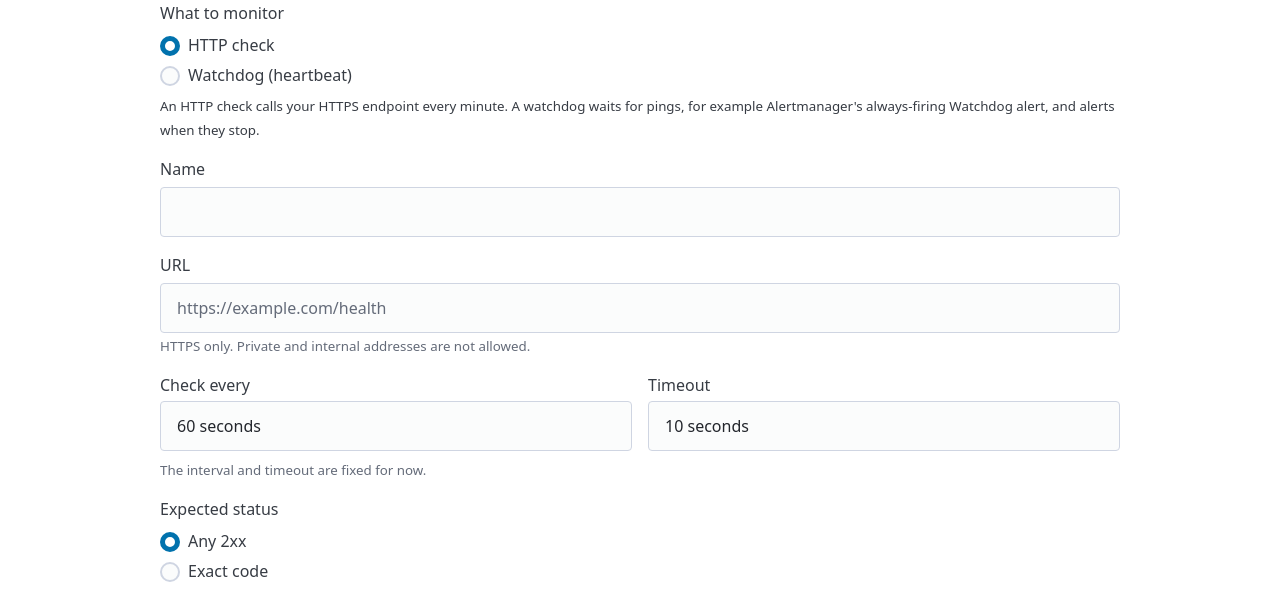
Test: monitor form › creates a monitor and opens it
The image size is (1280, 599).
Type "Website" into the field labelled "Name".
click(640, 212); type("Website")  # box [160,187,1120,237]
Type "https://example.com/" into the field labelled "URL".
click(640, 308); type("https://example.com/")  # box [160,283,1120,333]
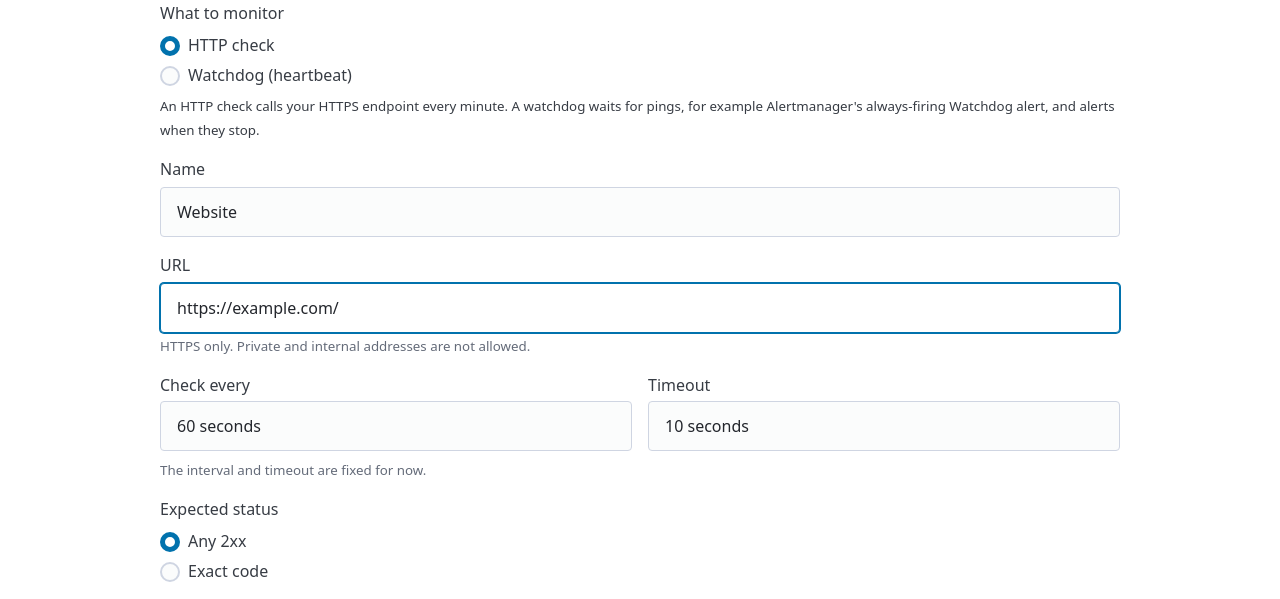
Click the radio button labelled "Exact code".
click(170, 572)  # box [160,562,180,582]
(page scrolled)
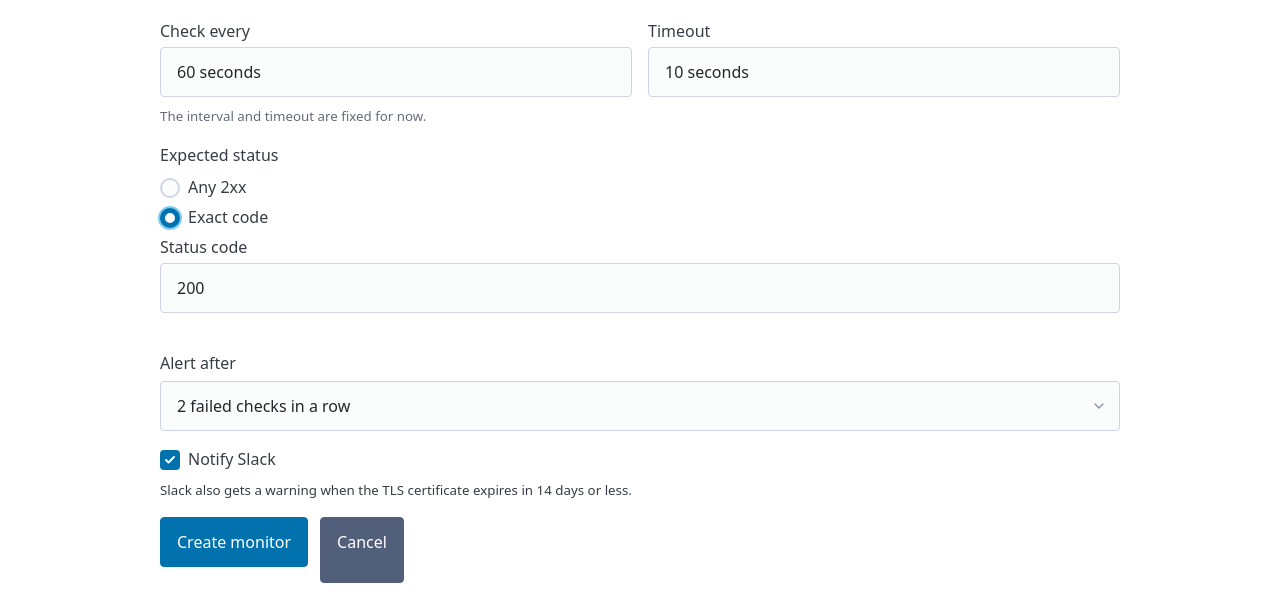
Replace the text in the field labelled "Status code" with "204" at (640,288), box [160,263,1120,313]
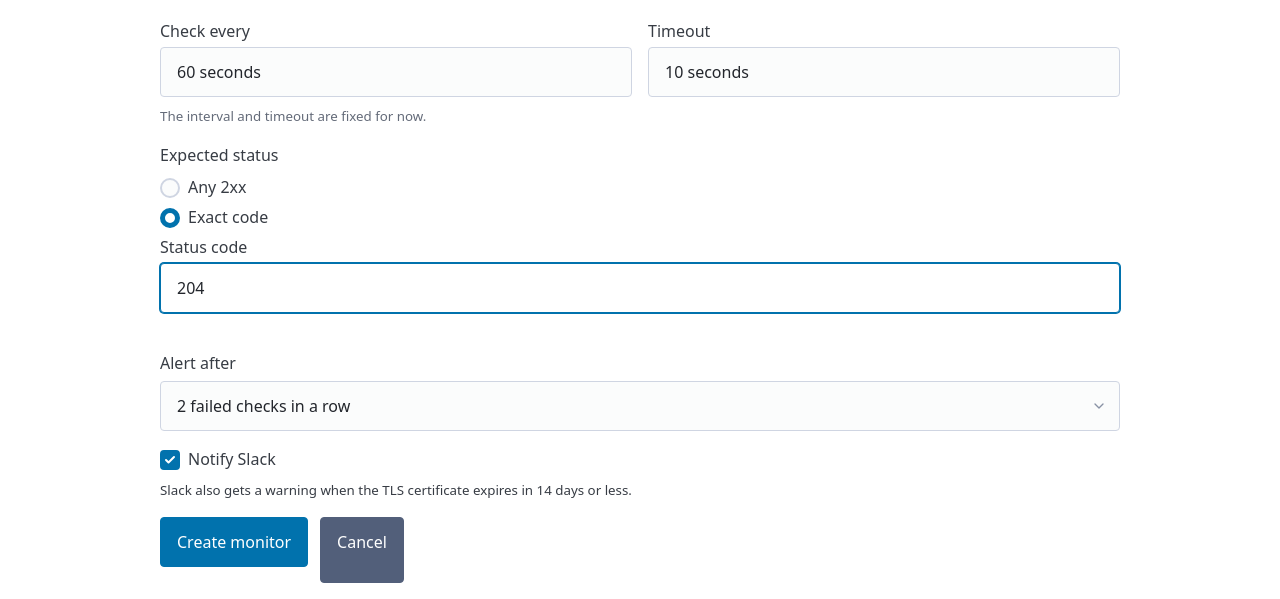
Select "3 failed checks in a row" in the dropdown labelled "Alert after" at (640,406), box [160,381,1120,431]
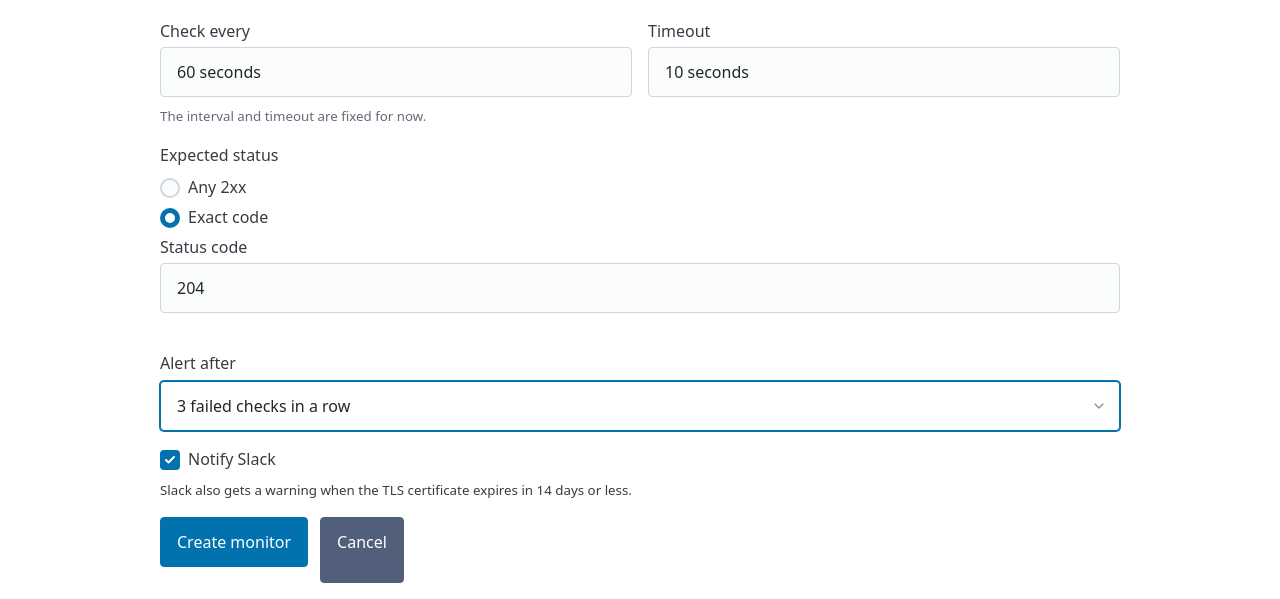
Click the checkbox labelled "Notify Slack".
click(170, 460)  # box [160,450,180,470]
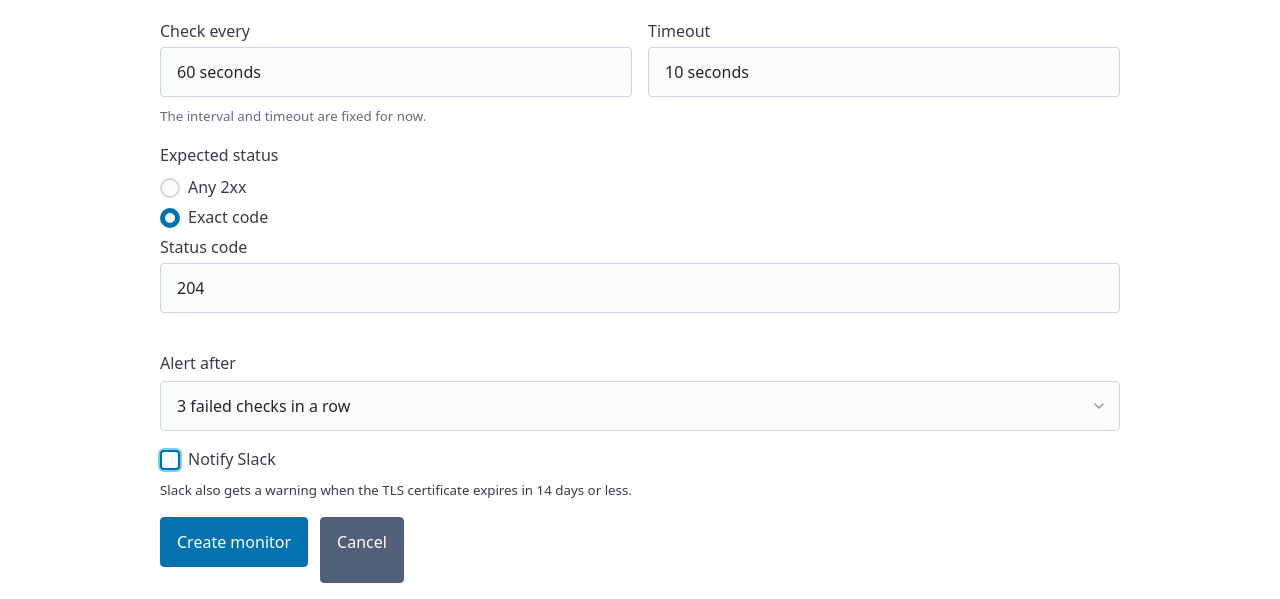
Click the button "Create monitor".
click(234, 542)  # box [160,517,308,567]
(page scrolled)
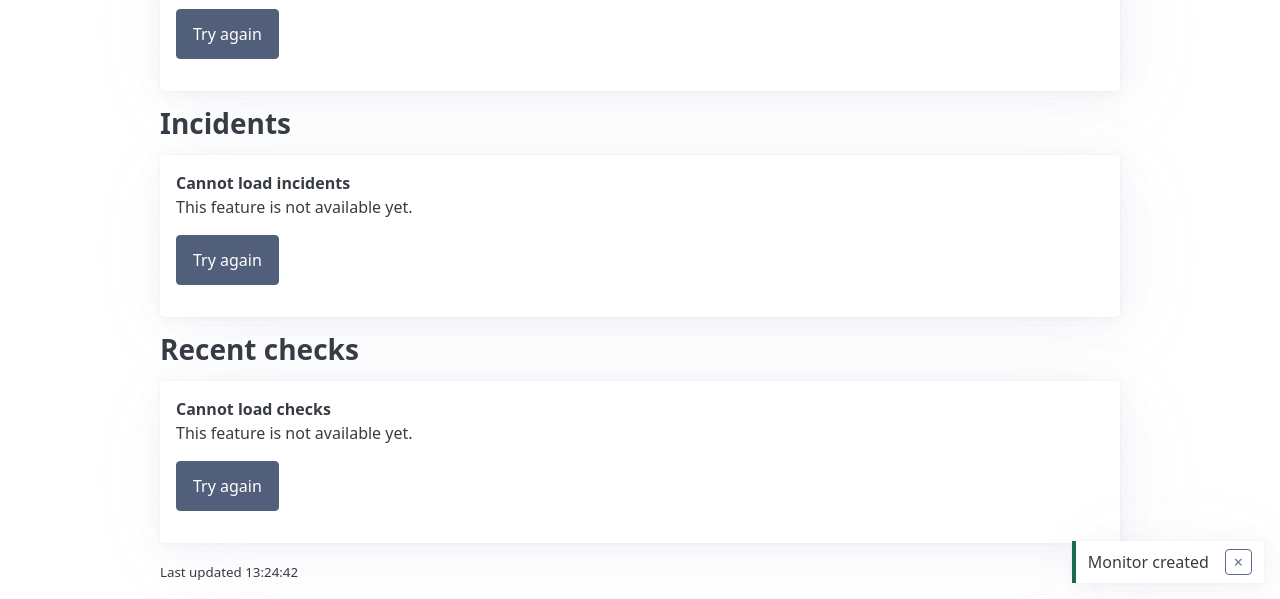
Result: the message "Monitor created ×" is shown at [1072,533,1264,583]
